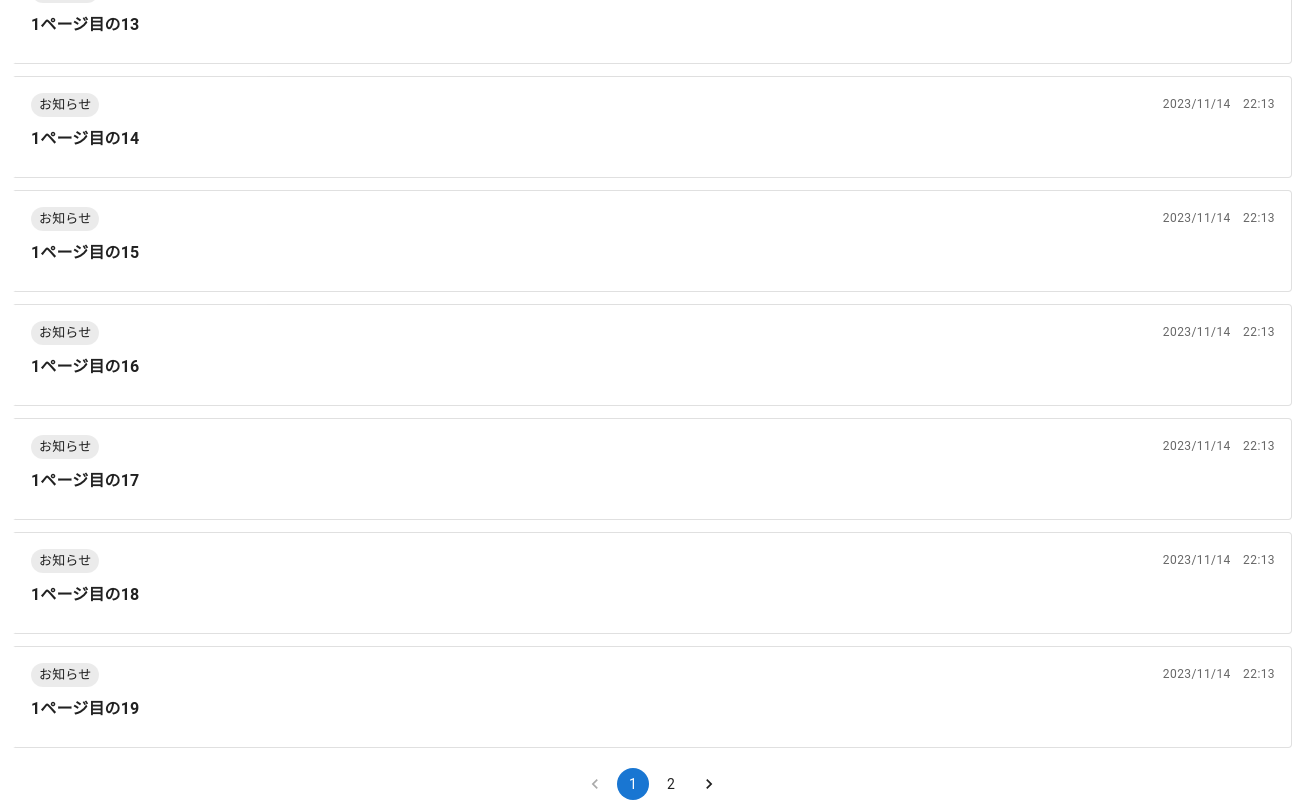
Test case: お知らせ一覧 (#294) › 件数が1ページを超えるとページ送りが出て、次のページを取りに行く
This screenshot has width=1292, height=800.
(page scrolled)
Step 1. Click the button named "Go to page 2" → (671,784), box [655,768,687,799]
(page scrolled)
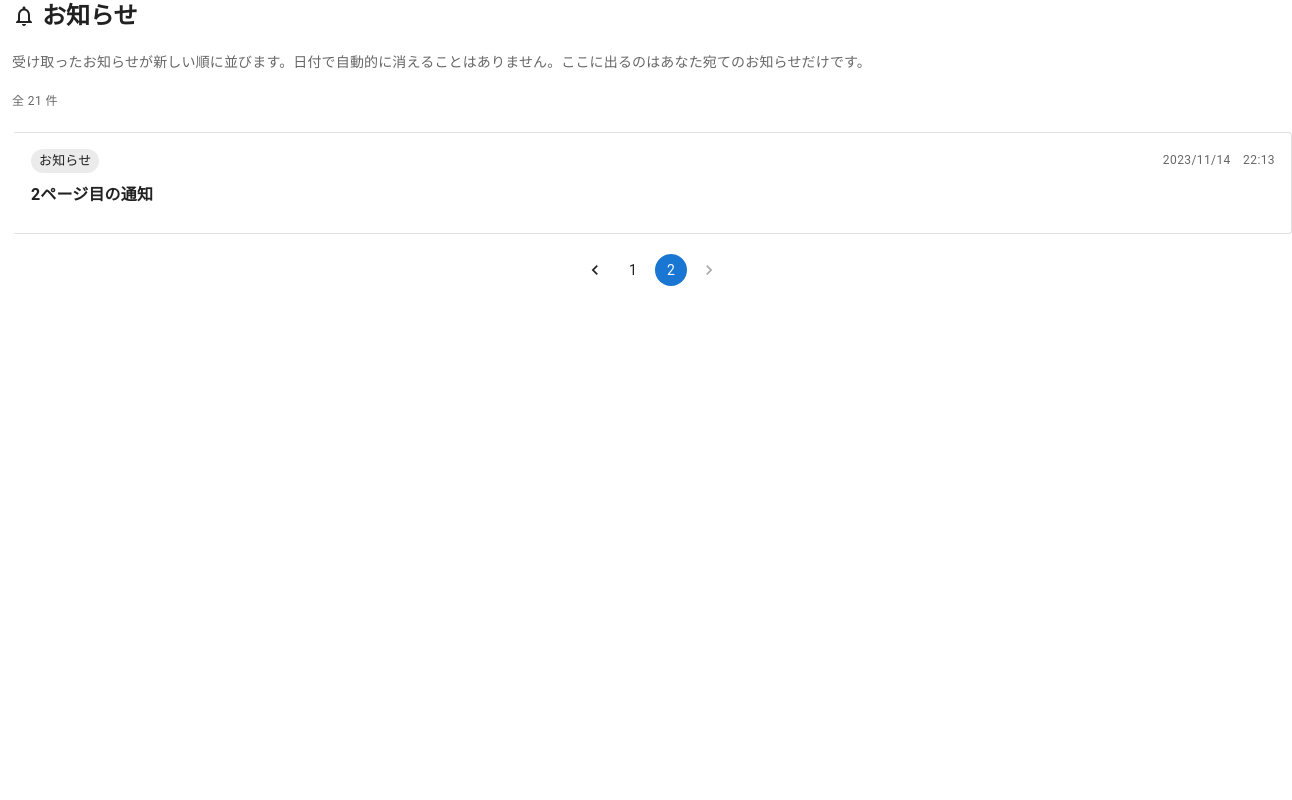
Check: the heading "2ページ目の通知" is shown, box [31,185,153,204]
